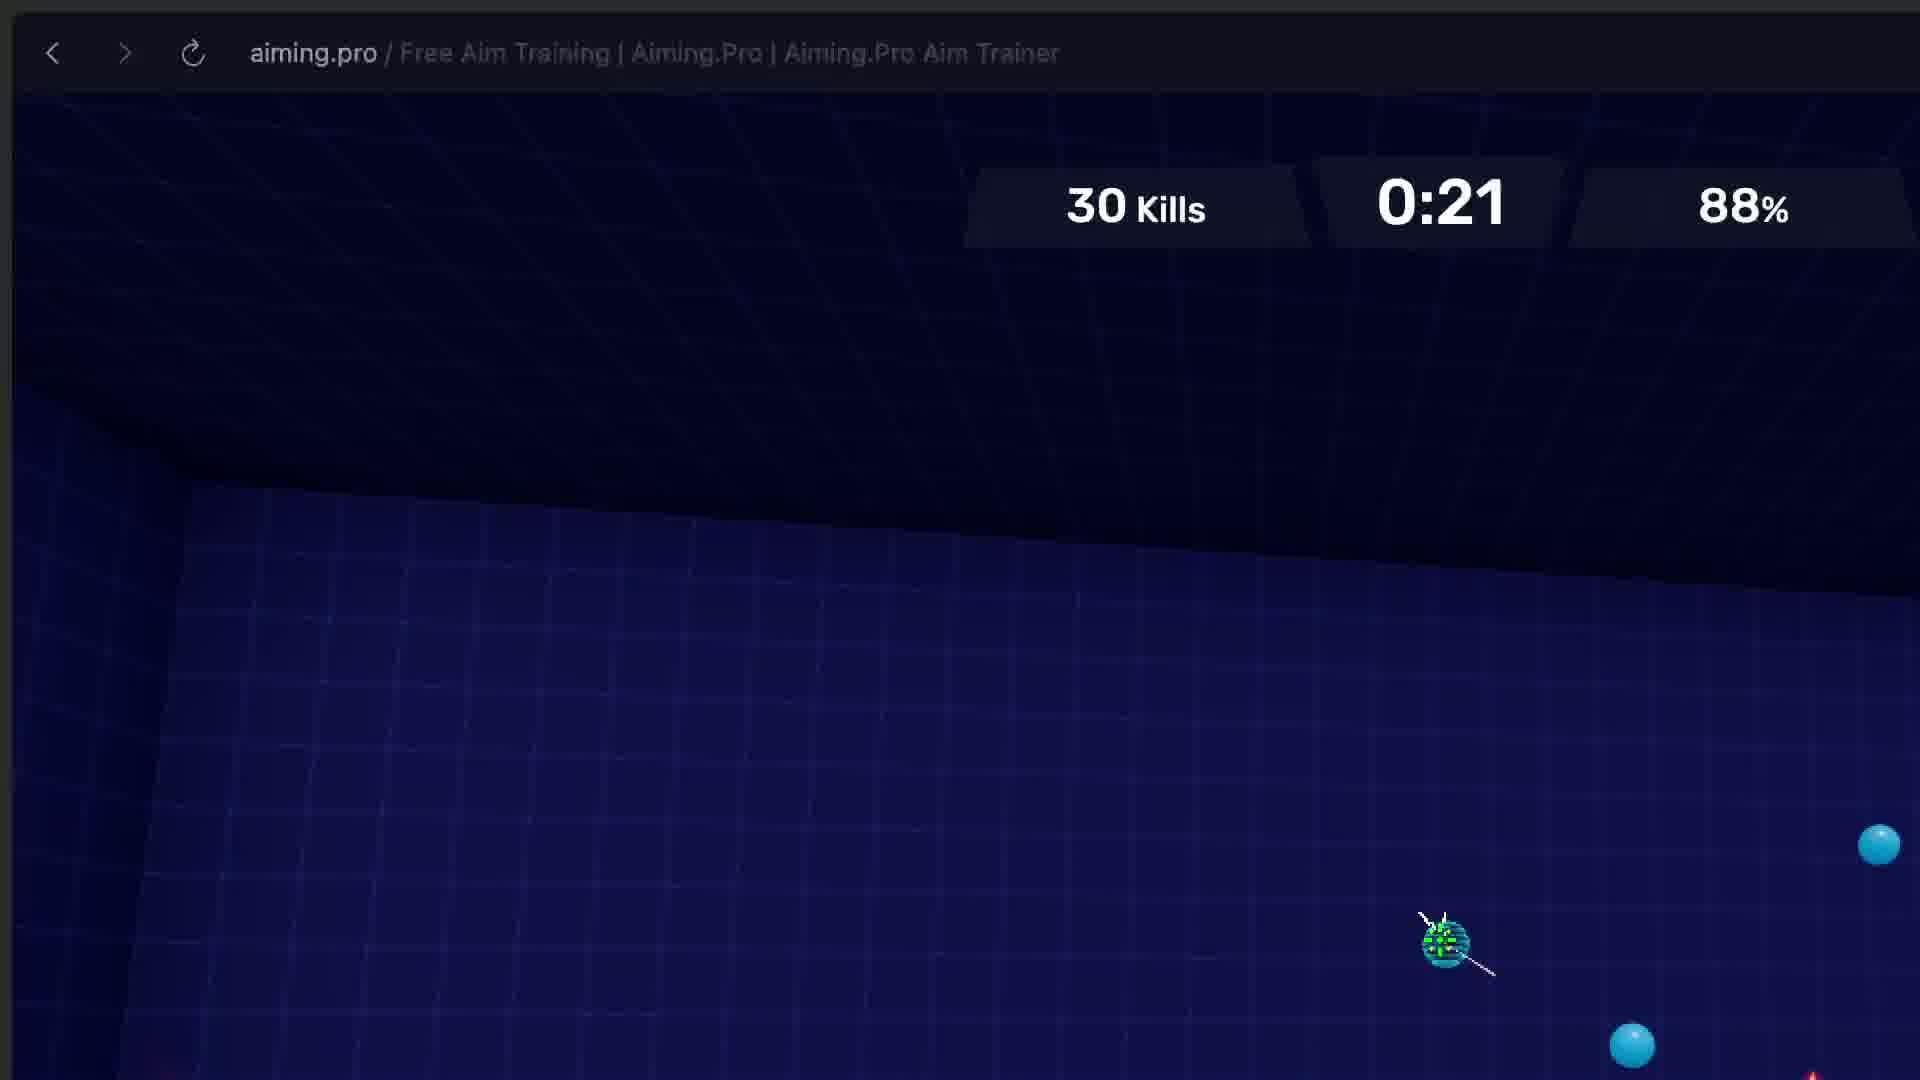target: (1609, 1023, 1656, 1068), (1858, 825, 1902, 866)
